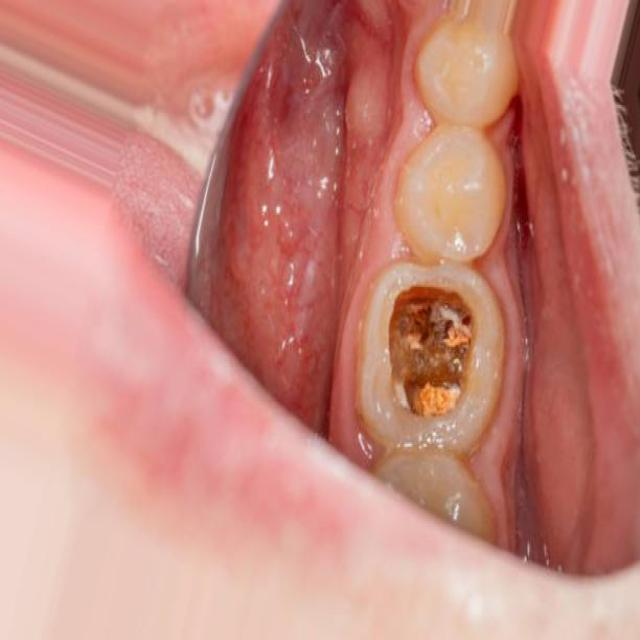caries: (366, 265, 487, 436)
